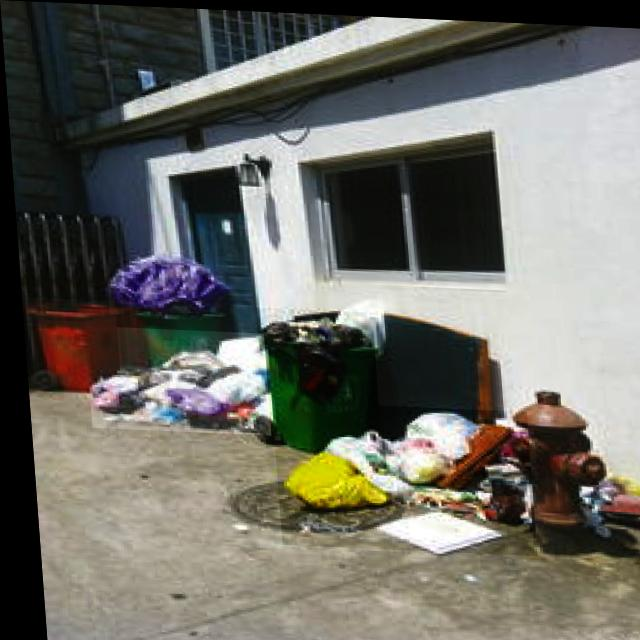garbage: (266, 399, 529, 551), (80, 325, 265, 433)
garbage_bin: (20, 297, 115, 387)
overflow: (252, 305, 376, 450), (102, 255, 226, 367)
